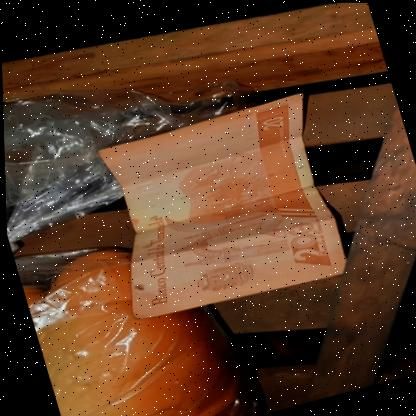twenty-back-vef: (80, 89, 355, 330)
